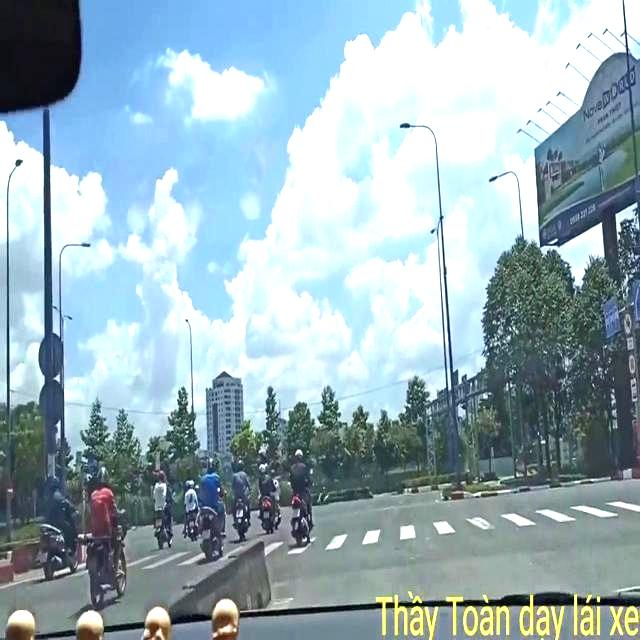Cấm xe máy: (600, 297, 620, 337), (619, 307, 633, 335)
Cấm đi ngược chiều: (7, 483, 15, 498)
Giới hạn tốc độ 60Km/h: (625, 352, 638, 374)
